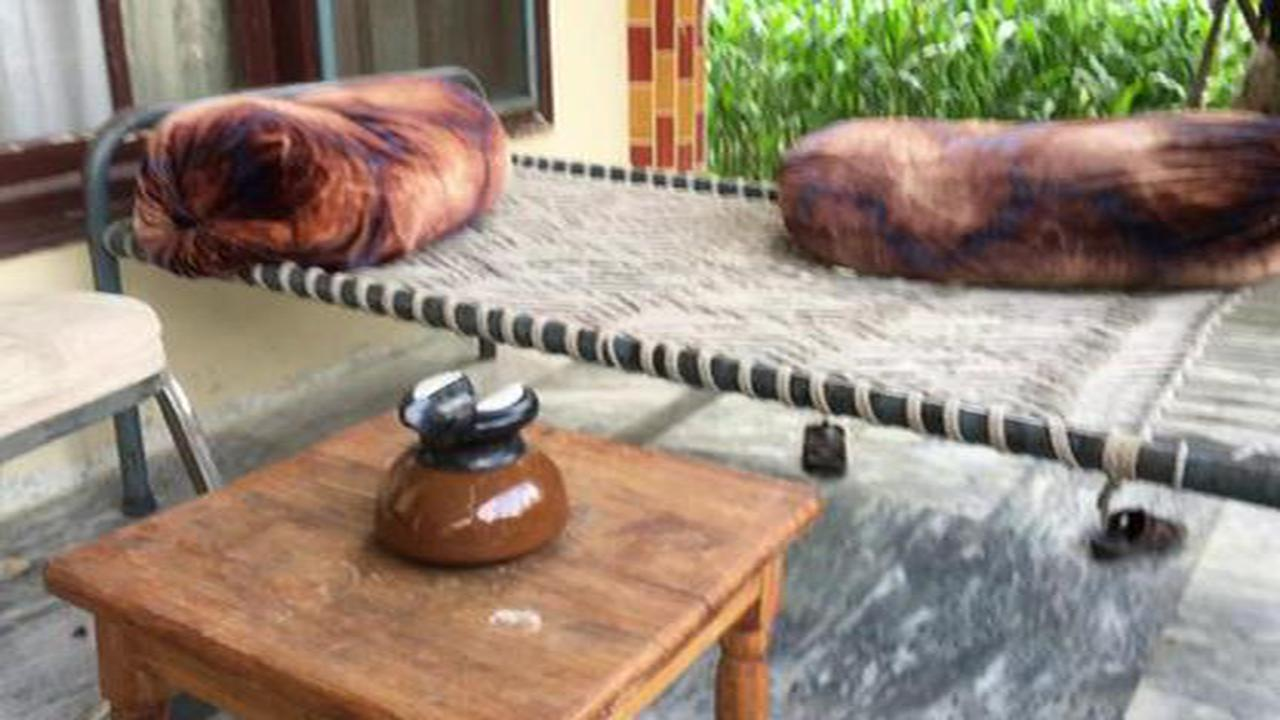insulator_pin: (348, 355, 585, 575)
